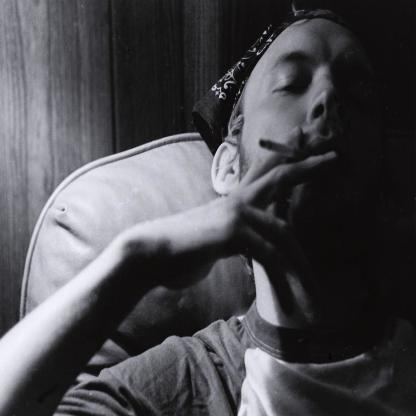smoking: (260, 139, 315, 165)
